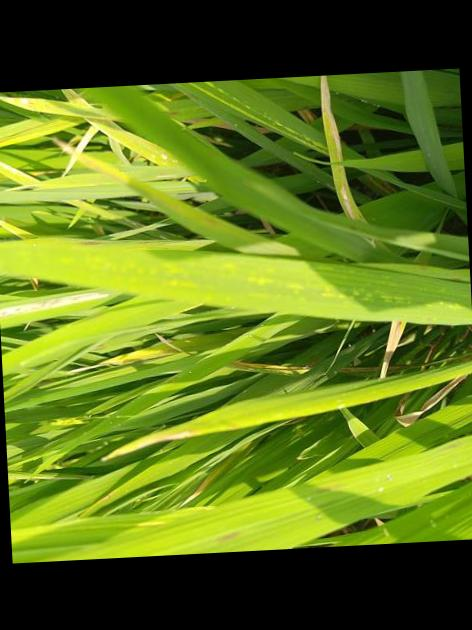Leaf Streak: (321, 74, 365, 219), (186, 442, 252, 503), (0, 290, 127, 317), (116, 341, 187, 361), (131, 428, 200, 447), (223, 360, 313, 371), (388, 318, 410, 353)
